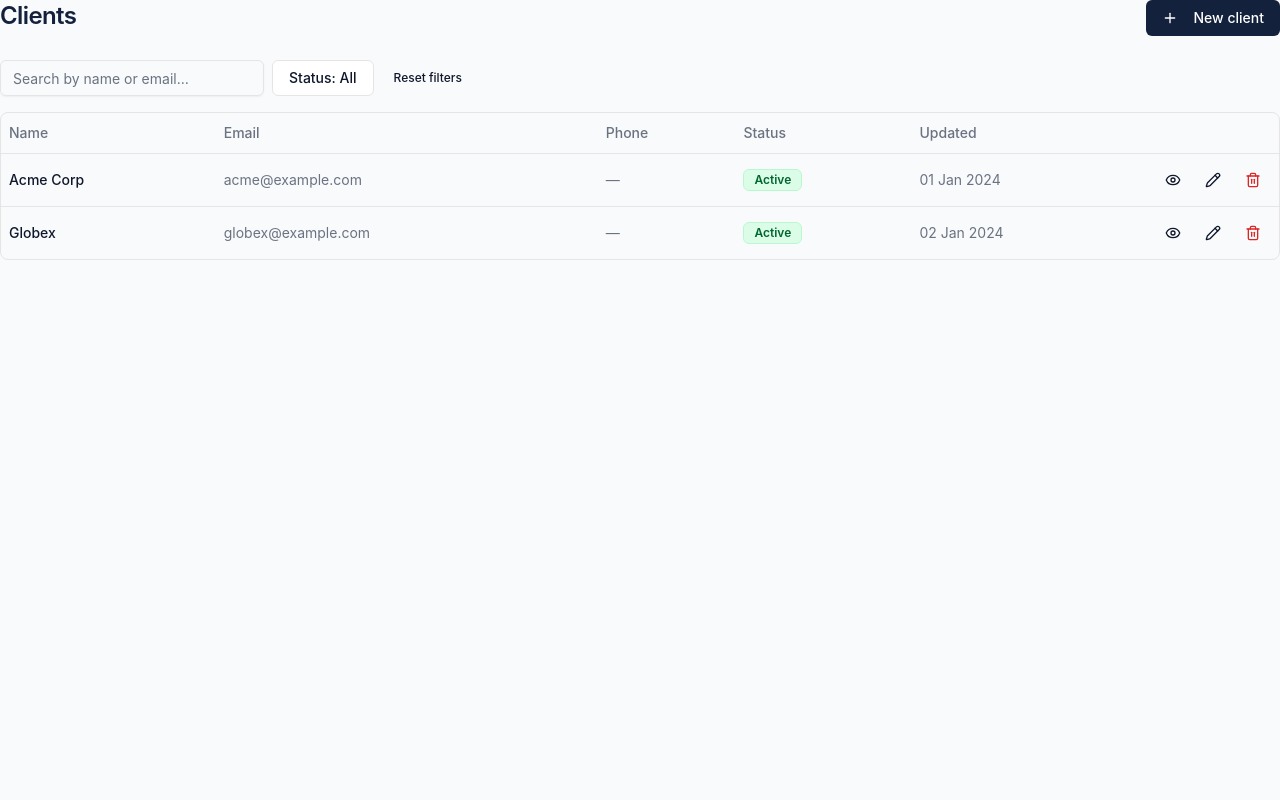
it: ClientsPage › opens the create sheet when New client is clicked
Click the button with test id "btn-new-client".
click(1213, 18)  # box [1146, 0, 1279, 36]
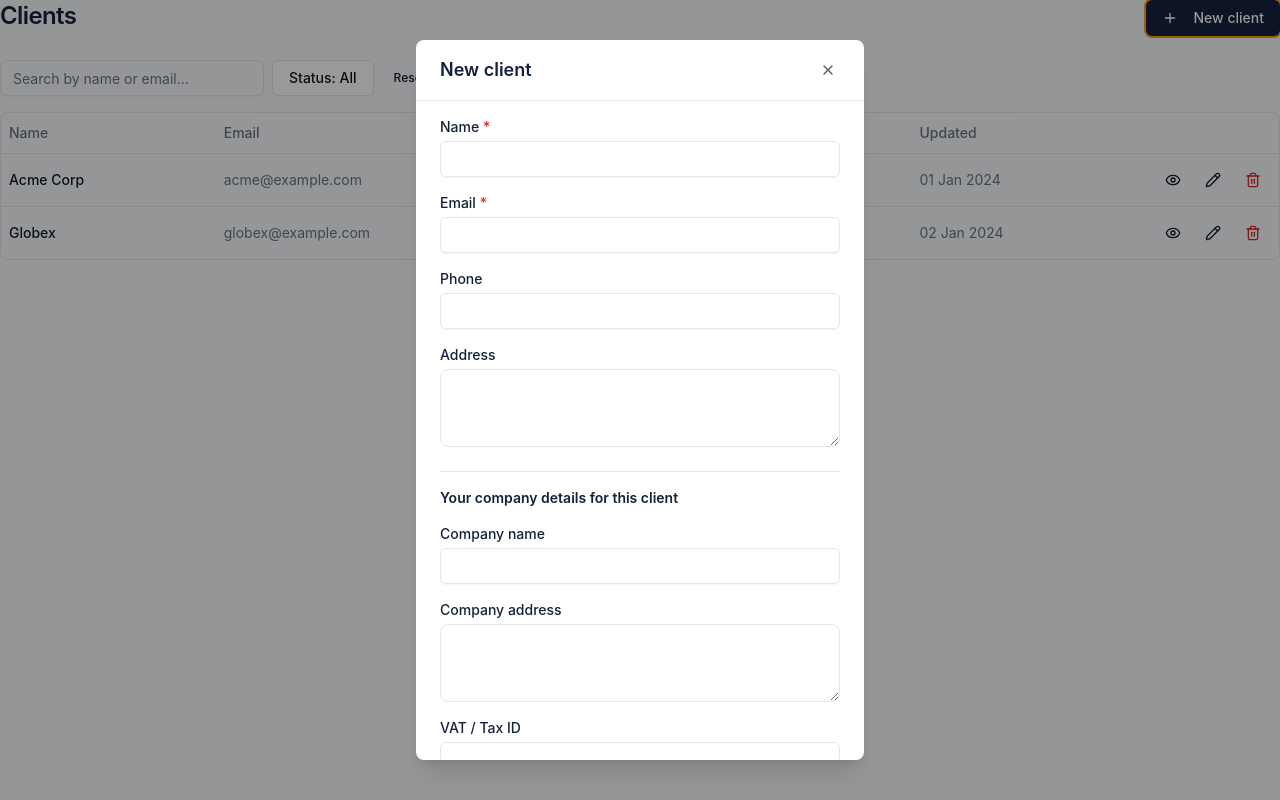
Expected: the dialog with test id "client-form-sheet" is shown, [416, 40, 864, 760]
Expected: the heading "New client" is shown, [440, 56, 532, 84]
